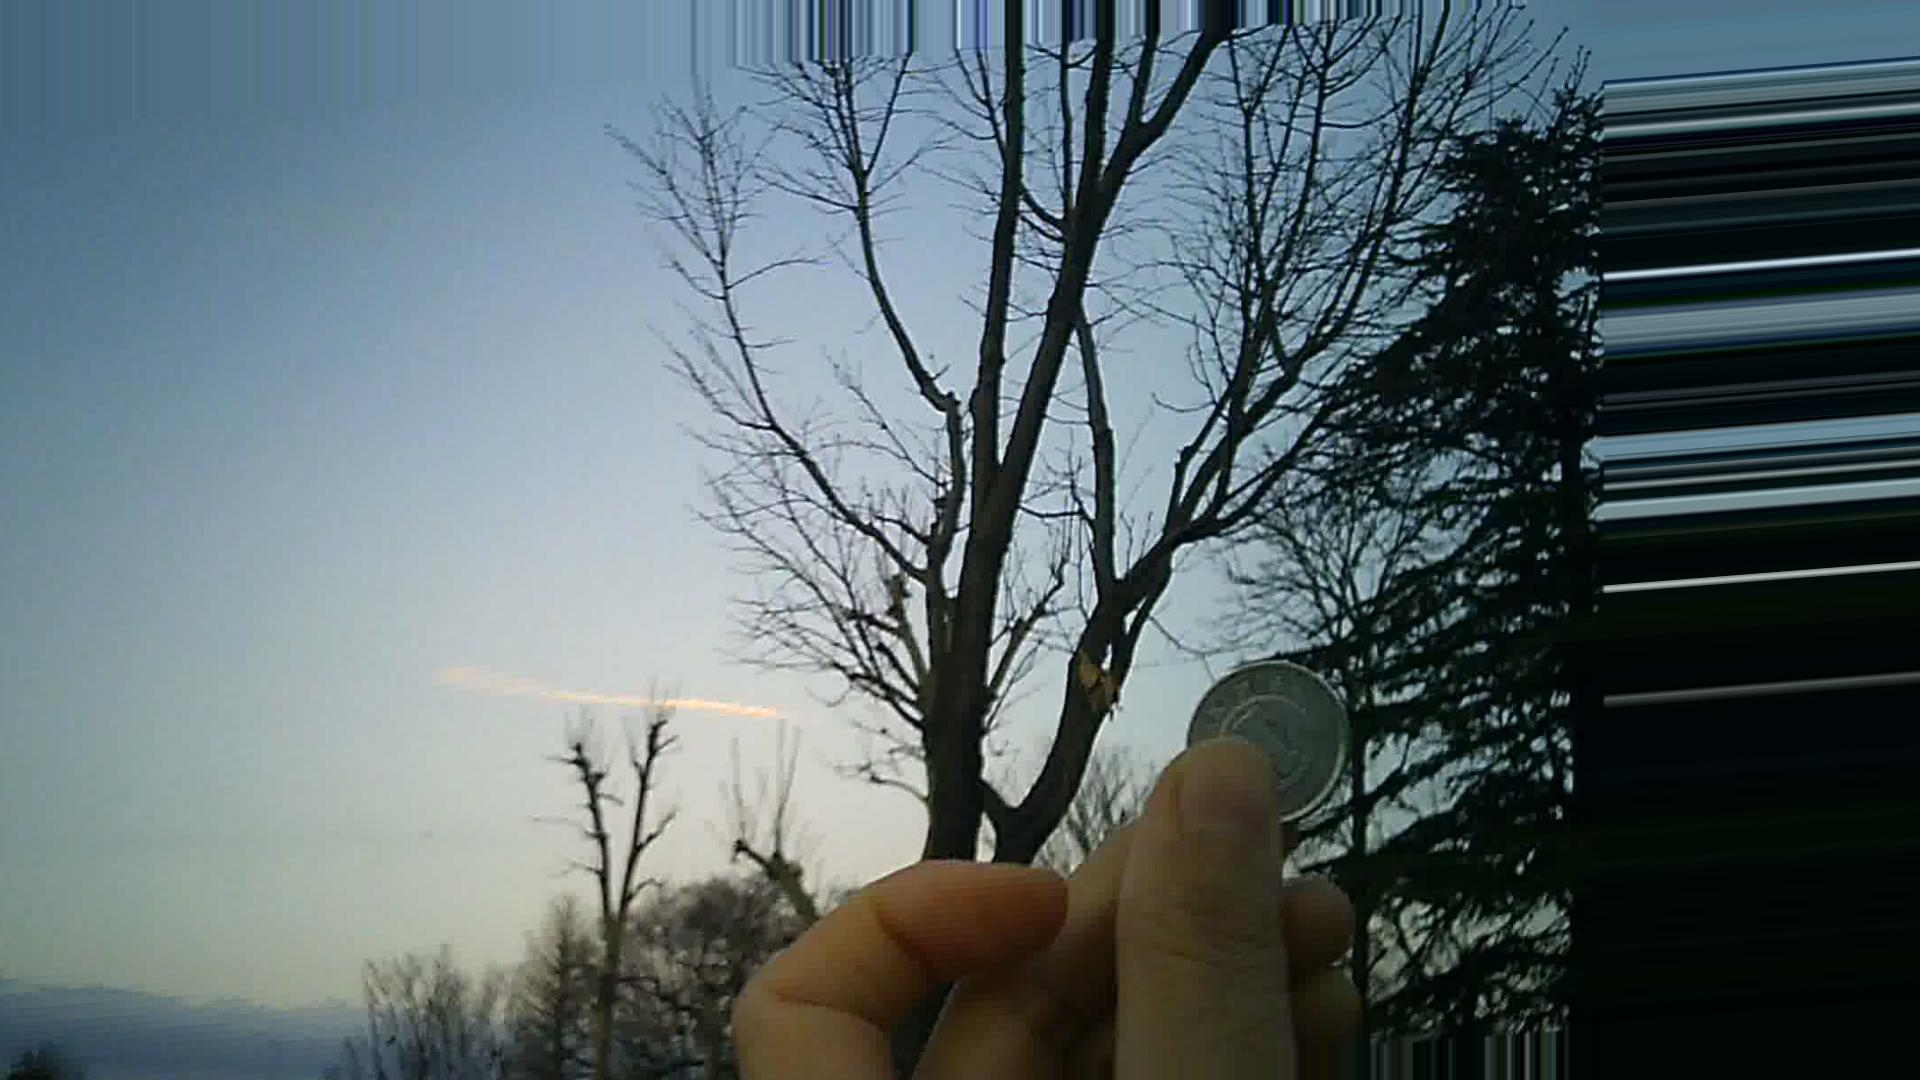1 Yen: (1178, 659, 1356, 828)
